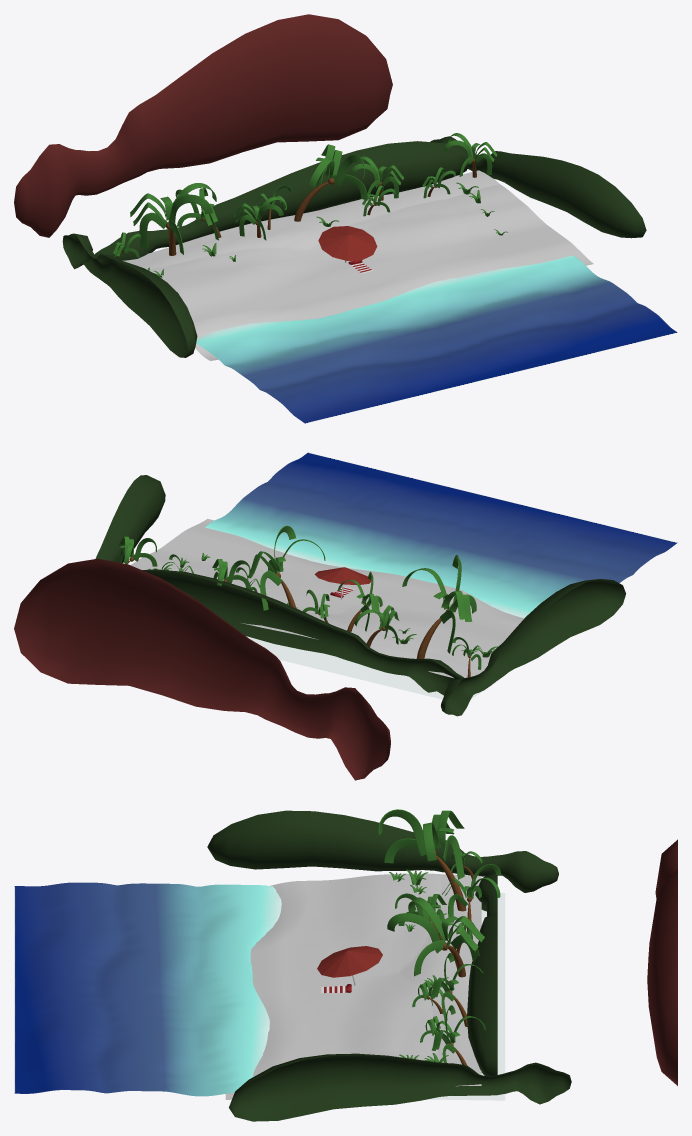
The model's file is playa.fbx.
3 renders of one model, top to bottom at view 1: azimuth 30°, elevation 25°; view 2: azimuth 150°, elevation 25°; view 3: azimuth 270°, elevation 25°, orthographic. The views are drawn at different scales.
Visible parts, largest first — view 1: Grid.001, Grid, Cube.013, Cube, Cube.001, Cube.002, BézierCurve.009, BézierCurve.010, Cone, BézierCurve.006, BézierCurve.004, BézierCurve.002 (+1 smaller); view 2: Grid.001, Cube.013, Grid, Cube, Cube.002, Cube.001, BézierCurve.009, BézierCurve.010, Cone, BézierCurve.004, BézierCurve.006, BézierCurve.002 (+1 smaller); view 3: Grid.001, Grid, Cube.001, Cube.002, Cube.013, Cube, BézierCurve.009, BézierCurve.010, Cone, BézierCurve.001, BézierCurve.002, BézierCurve.006 (+1 smaller).
Part boxes in pixels (x1,y1,x2,y2): Grid.001: [196, 255, 677, 423]; Grid: [122, 170, 593, 360]; Cube.013: [14, 14, 392, 237]; Cube: [95, 141, 469, 260]; Cube.001: [430, 136, 646, 238]; Cube.002: [62, 233, 197, 357]; BézierCurve.009: [130, 183, 216, 255]; BézierCurve.010: [294, 144, 367, 221]; Cone: [318, 226, 377, 260]; BézierCurve.006: [444, 133, 497, 177]; BézierCurve.004: [233, 197, 285, 240]; BézierCurve.002: [350, 156, 403, 200]; Grid.001: [204, 452, 677, 699]; Cube.013: [14, 558, 390, 780]; Grid: [130, 518, 524, 678]; Cube: [142, 569, 463, 695]; Cube.002: [441, 579, 625, 716]; Cube.001: [95, 475, 165, 563]; BézierCurve.009: [402, 555, 476, 658]; BézierCurve.010: [247, 525, 325, 610]; Cone: [314, 567, 371, 584]; BézierCurve.004: [337, 571, 382, 631]; BézierCurve.006: [118, 536, 157, 566]; BézierCurve.002: [212, 559, 250, 588]; Grid.001: [14, 882, 505, 1100]; Grid: [225, 873, 481, 1099]; Cube.001: [229, 1053, 571, 1121]; Cube.002: [207, 810, 558, 892]; Cube.013: [647, 839, 677, 1085]; Cube: [467, 871, 497, 1077]; BézierCurve.009: [378, 809, 466, 911]; BézierCurve.010: [387, 897, 484, 977]; Cone: [317, 946, 382, 977]; BézierCurve.001: [442, 864, 501, 935]; BézierCurve.002: [430, 953, 483, 1026]; BézierCurve.006: [431, 1005, 485, 1065].
Bounding box in the file's own units: 24.09 × 7.98 × 25.93.
